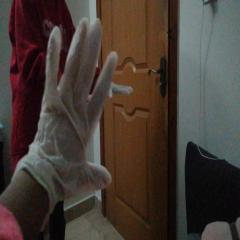gloved: (28, 18, 112, 190), (110, 80, 133, 98)
